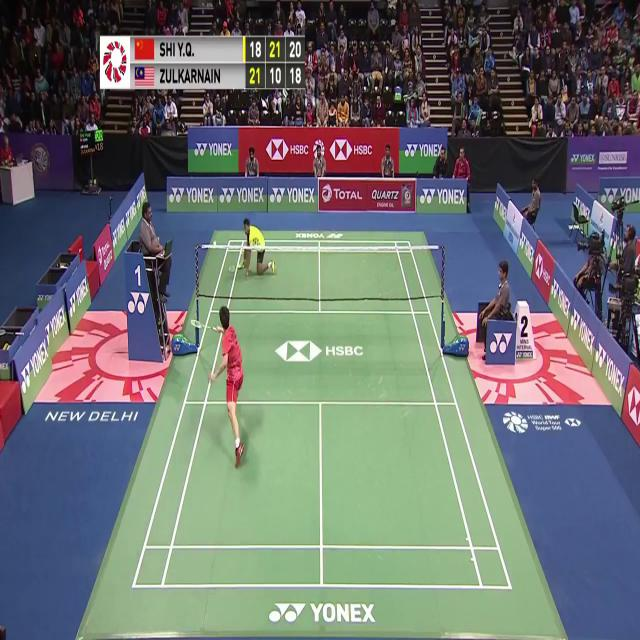Shuttlecock: (212, 240, 219, 252)
